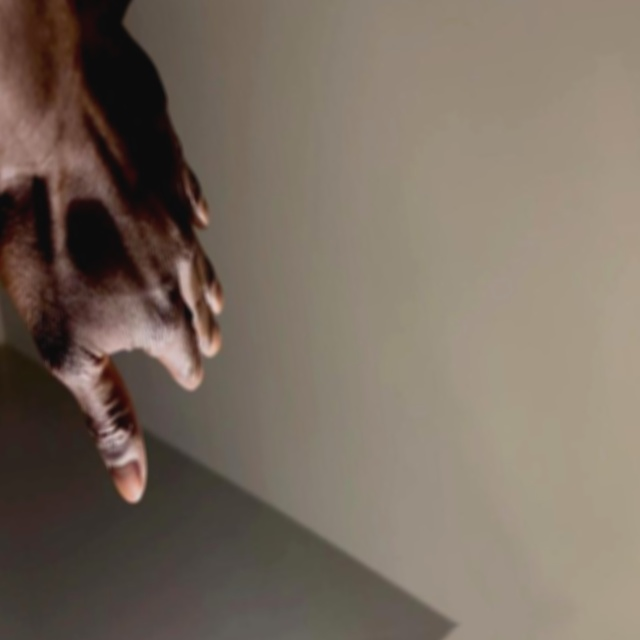Paper: (0, 14, 250, 528)
